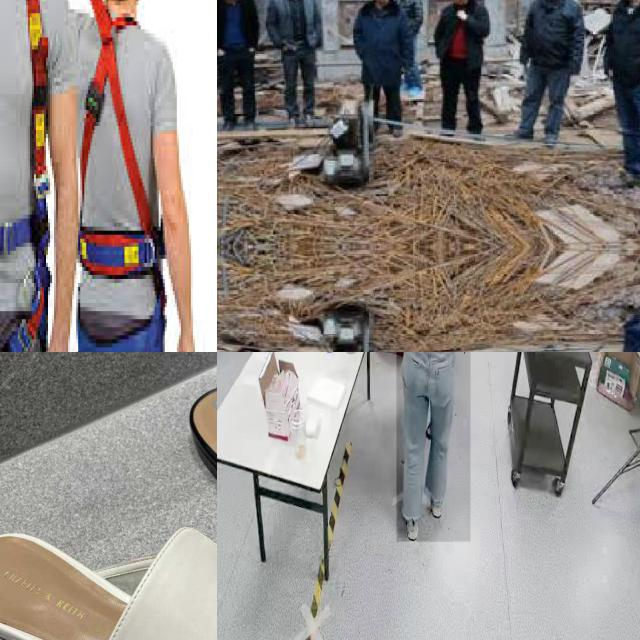Harness: (75, 11, 167, 352), (0, 0, 53, 352)
Sandals: (0, 507, 217, 640)
face_nomask: (373, 0, 390, 5)
person: (396, 352, 471, 542), (516, 0, 584, 145), (603, 0, 640, 220), (353, 0, 406, 140), (267, 0, 323, 131), (436, 0, 487, 140), (217, 0, 263, 132)
shoes: (603, 162, 640, 195), (425, 477, 450, 524), (400, 501, 420, 542)
